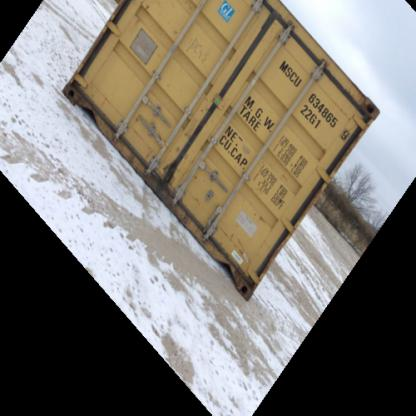Damage: (219, 222, 260, 265), (67, 84, 116, 117), (123, 120, 162, 157), (178, 33, 211, 70), (132, 5, 152, 40), (351, 94, 371, 124)
